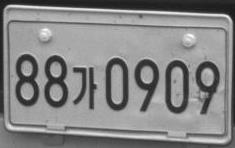0: (104, 57, 129, 112), (164, 59, 189, 114)
8: (43, 54, 69, 108), (14, 53, 39, 107)
9: (133, 57, 159, 112), (195, 60, 220, 115)
가: (72, 66, 97, 109)
